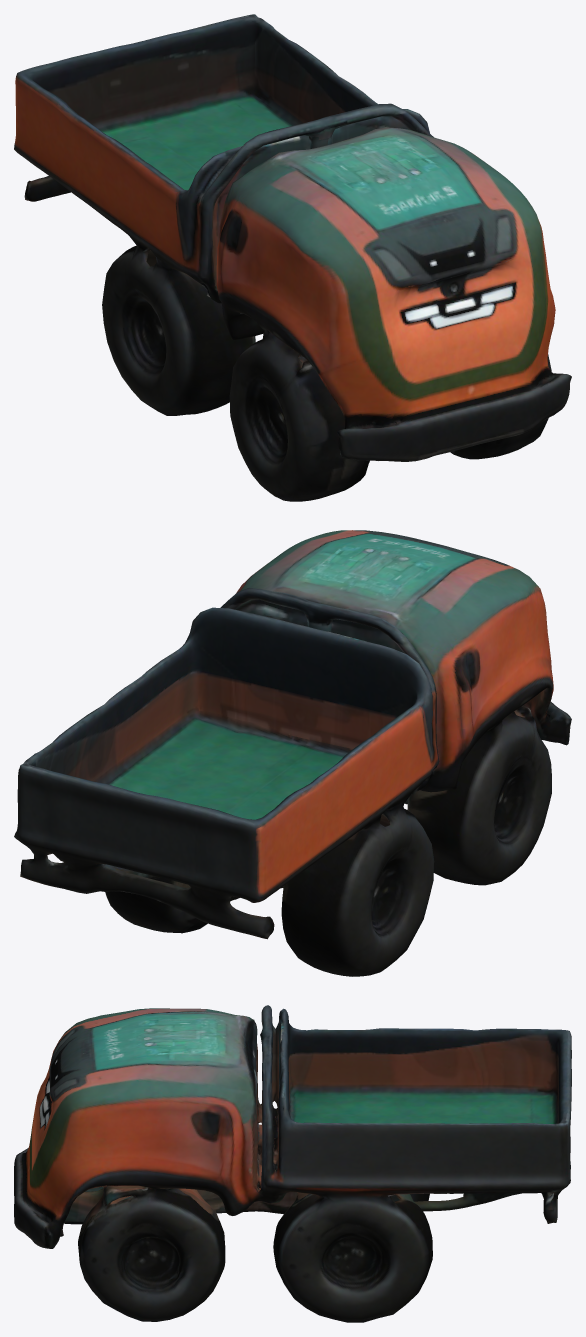
File: minibot2.glb
3 renders of one model, top to bottom at view 1: azimuth 30°, elevation 25°; view 2: azimuth 150°, elevation 25°; view 3: azimuth 270°, elevation 25°, orthographic. The views are drawn at different scales.
Size of the model in its own units: 0.8773 by 0.9846 by 2.
Materials: 1 (1 with a texture image).
